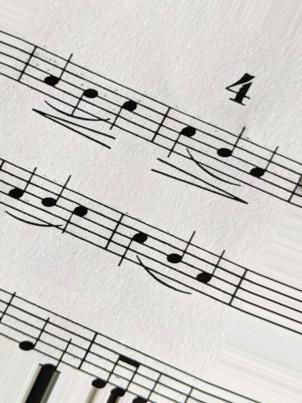note: (114, 210, 152, 273), (40, 174, 73, 244), (165, 228, 199, 293), (17, 298, 51, 358), (165, 106, 200, 164), (216, 125, 248, 188), (107, 78, 140, 139), (246, 140, 280, 199), (194, 245, 226, 307), (5, 161, 37, 220), (43, 46, 73, 108), (63, 187, 90, 248), (69, 64, 99, 118)
